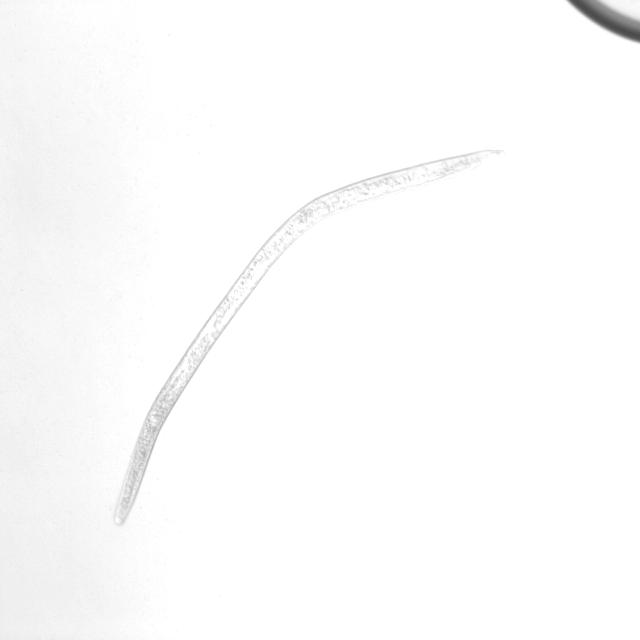Radopholus: (110, 142, 515, 538)
